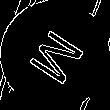M_SE: (21, 22, 89, 88)
